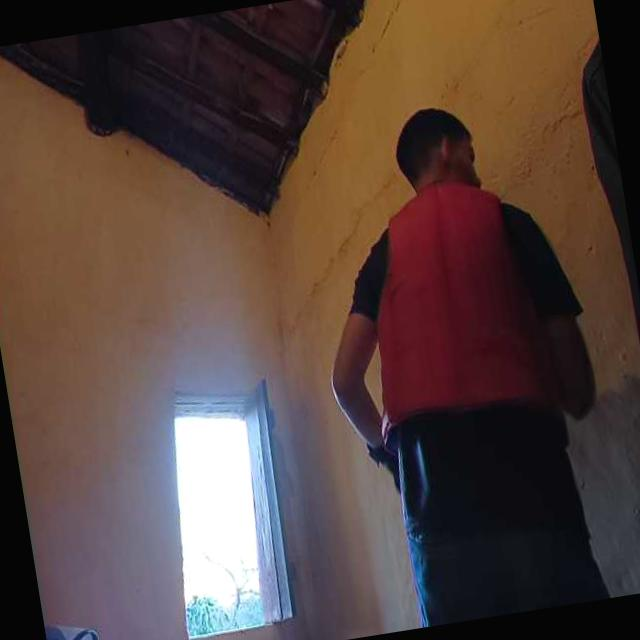capacete: (44, 613, 119, 640)
colete: (349, 178, 548, 438)
pessoa: (326, 98, 616, 630)
